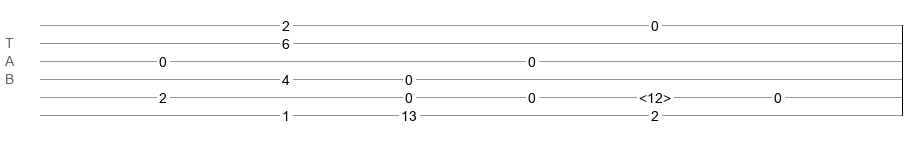0: (159, 54, 167, 64), (405, 72, 413, 82), (405, 90, 413, 100), (528, 90, 536, 100), (528, 54, 536, 64), (651, 18, 659, 28), (774, 90, 782, 100)
1: (282, 108, 290, 118)
13: (401, 108, 417, 118)
2: (159, 90, 167, 100), (282, 18, 290, 28), (651, 108, 659, 118)
4: (282, 72, 290, 82)
6: (282, 36, 290, 46)
harmonic: (639, 90, 671, 100)
